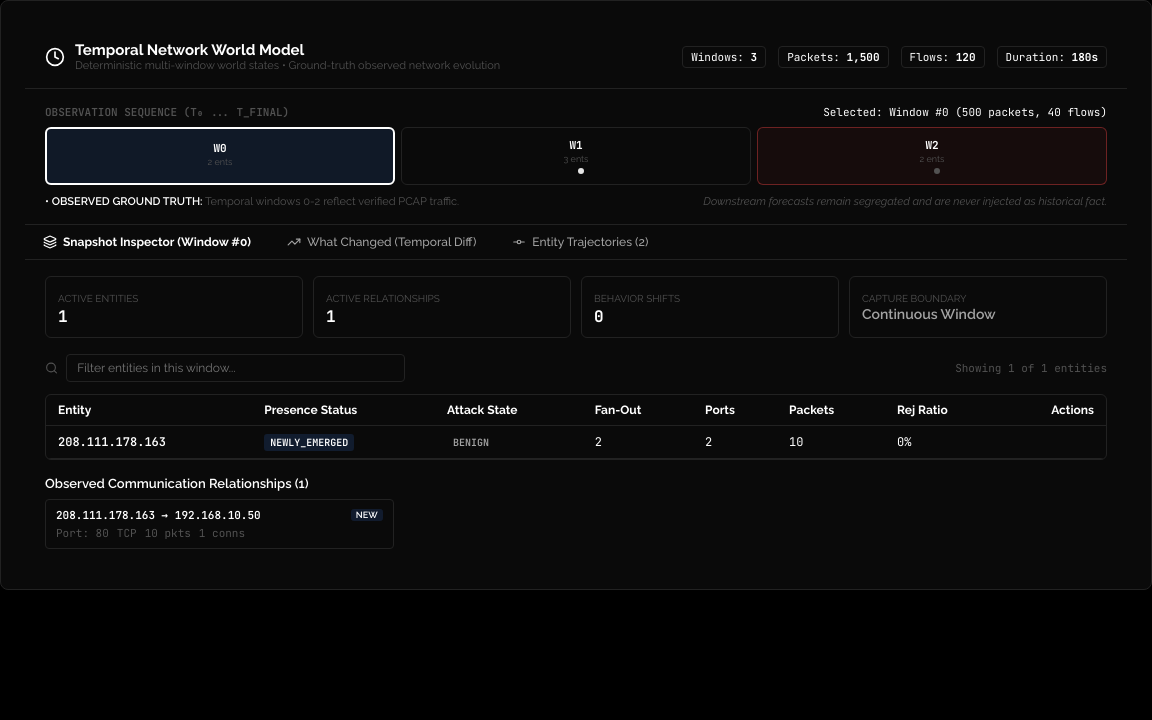
Test: TemporalWorldView Component › switches to What Changed (Temporal Diff) tab and computes deterministic state delta
Click the button "What Changed (Temporal Diff)": point(382, 242) [269,225,494,259]
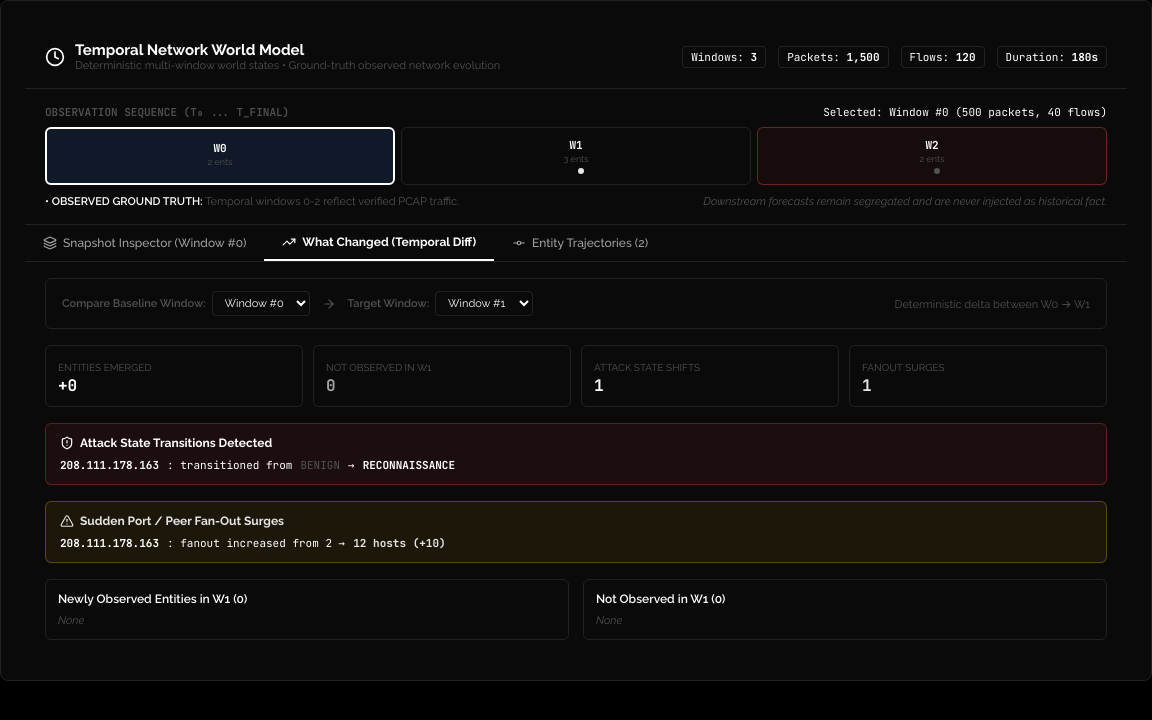
Now the text "Deterministic delta between W0 → W1" is shown, box [895,296,1090,310]
Now the text "Attack State Transitions Detected" is shown, box [60,436,272,450]
Now the text "208.111.178.163 : transitioned from BENIGN → RECONNAISSANCE" is shown, box [60,458,455,472]
